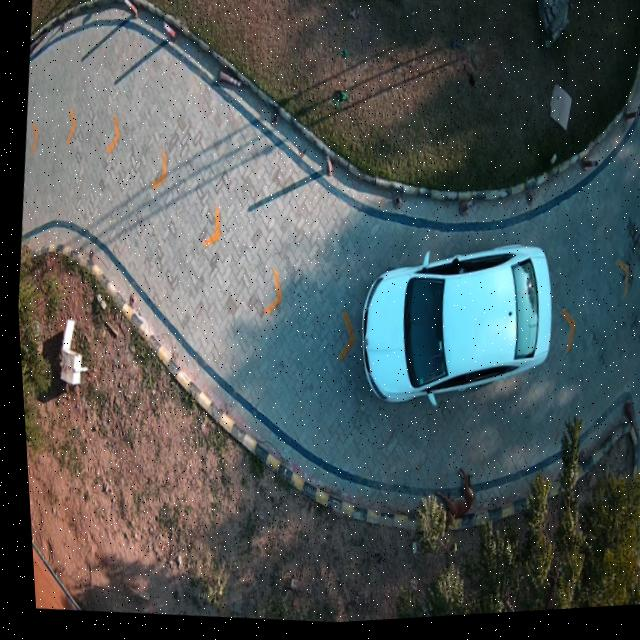car: (354, 248, 548, 409)
